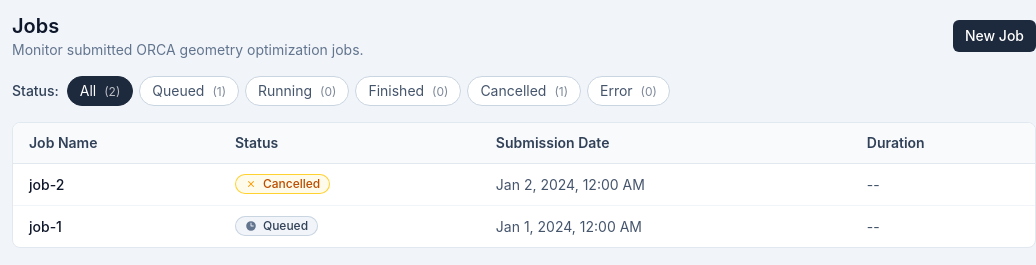
Test: JobsPage › filters jobs by status
The width and height of the screenshot is (1036, 265).
Check: the link "job-1" is shown, box [29, 218, 62, 234]
Check: the link "job-2" is shown, box [29, 176, 64, 192]
Click the button "Cancelled (1)" at (524, 91), box [467, 76, 581, 106]
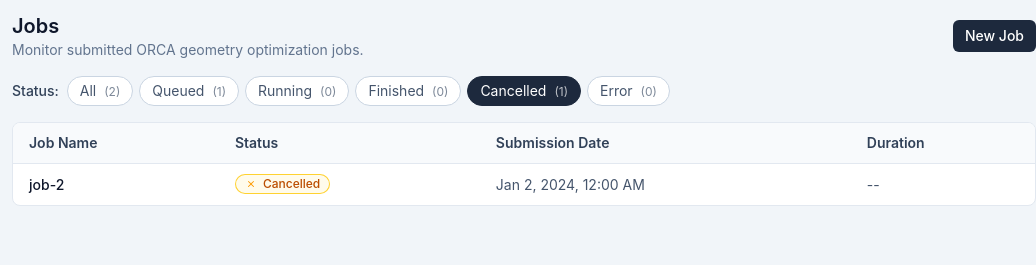
Check: the link "job-2" is shown, box [29, 176, 64, 192]
Check: the link "job-1" is gone
Click the button "Queued (1)" at (189, 91), box [139, 76, 239, 106]
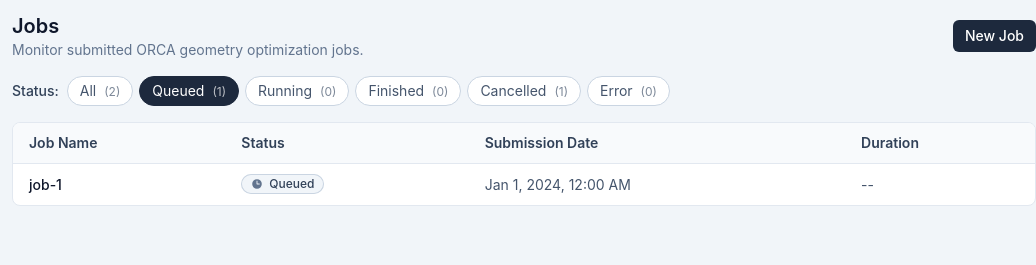
Check: the link "job-1" is shown, box [29, 176, 62, 192]
Check: the link "job-2" is gone
Click the button "All (2)" at (100, 91), box [67, 76, 133, 106]
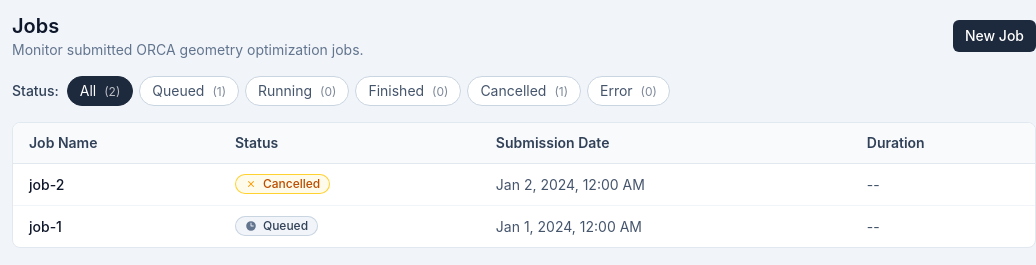
Check: the link "job-1" is shown, box [29, 218, 62, 234]
Check: the link "job-2" is shown, box [29, 176, 64, 192]
